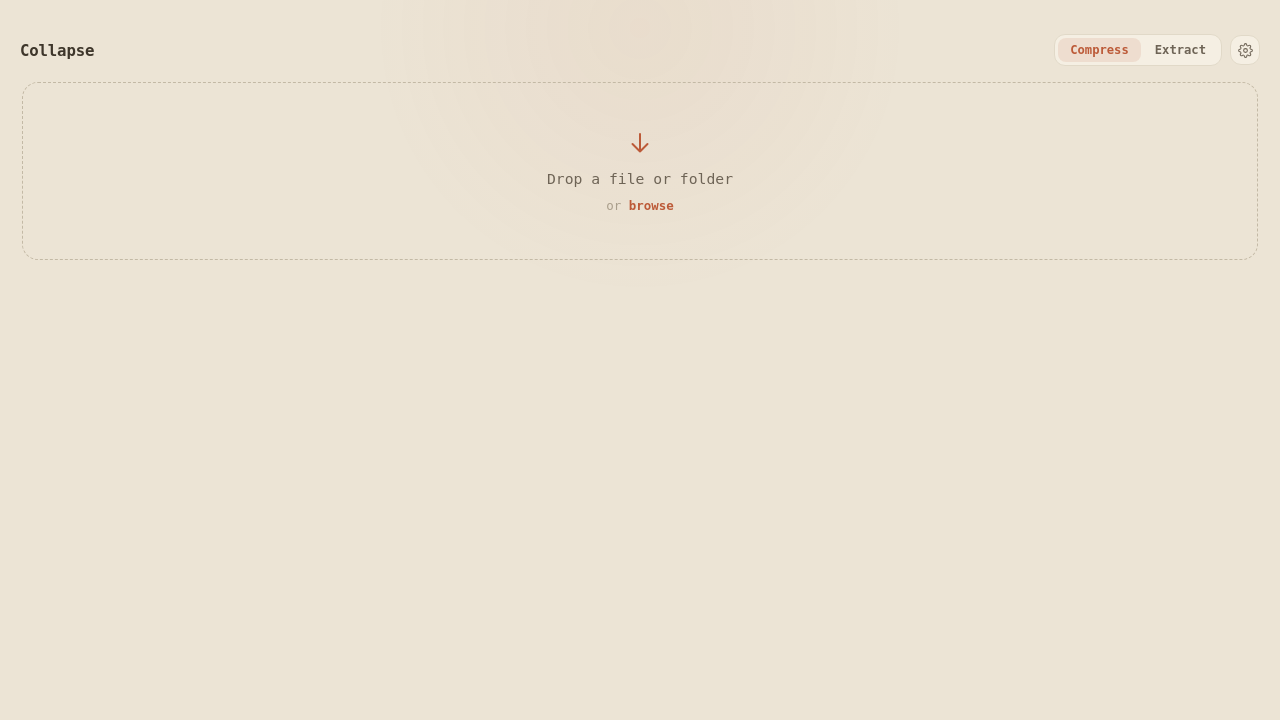
Scenario: App › compresses a picked file with the right command and args
Click the element with class "drop": (640, 171) [22,82,1258,260]
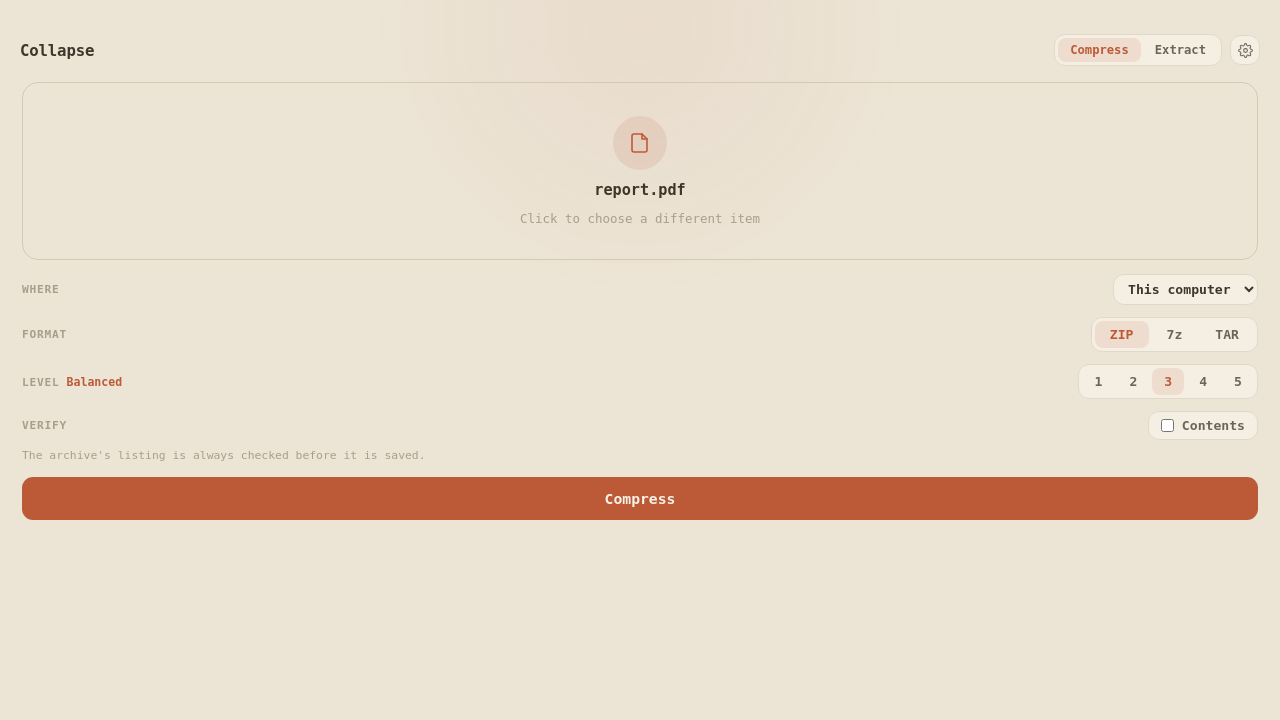
# Choose 7z, then compress.
Click the button "7z": (1174, 334) [1152,321,1197,348]
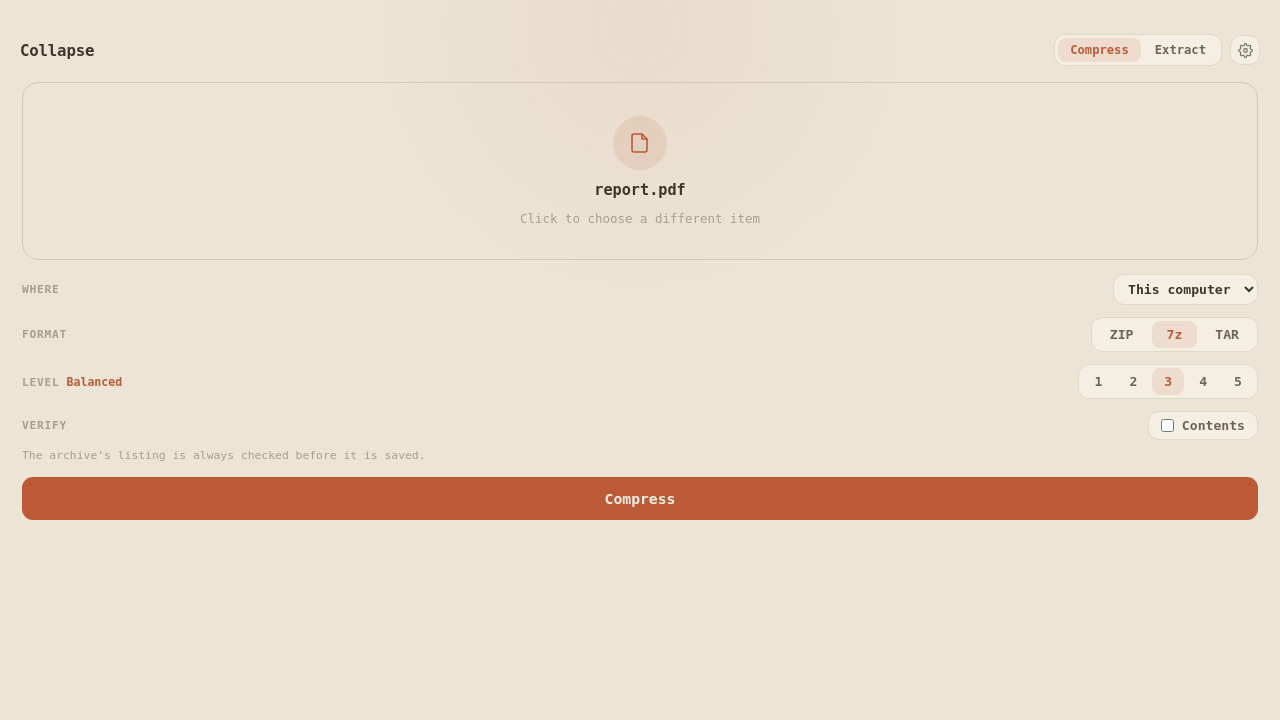
Click the button with class "cta": (640, 499) [22,478,1258,520]
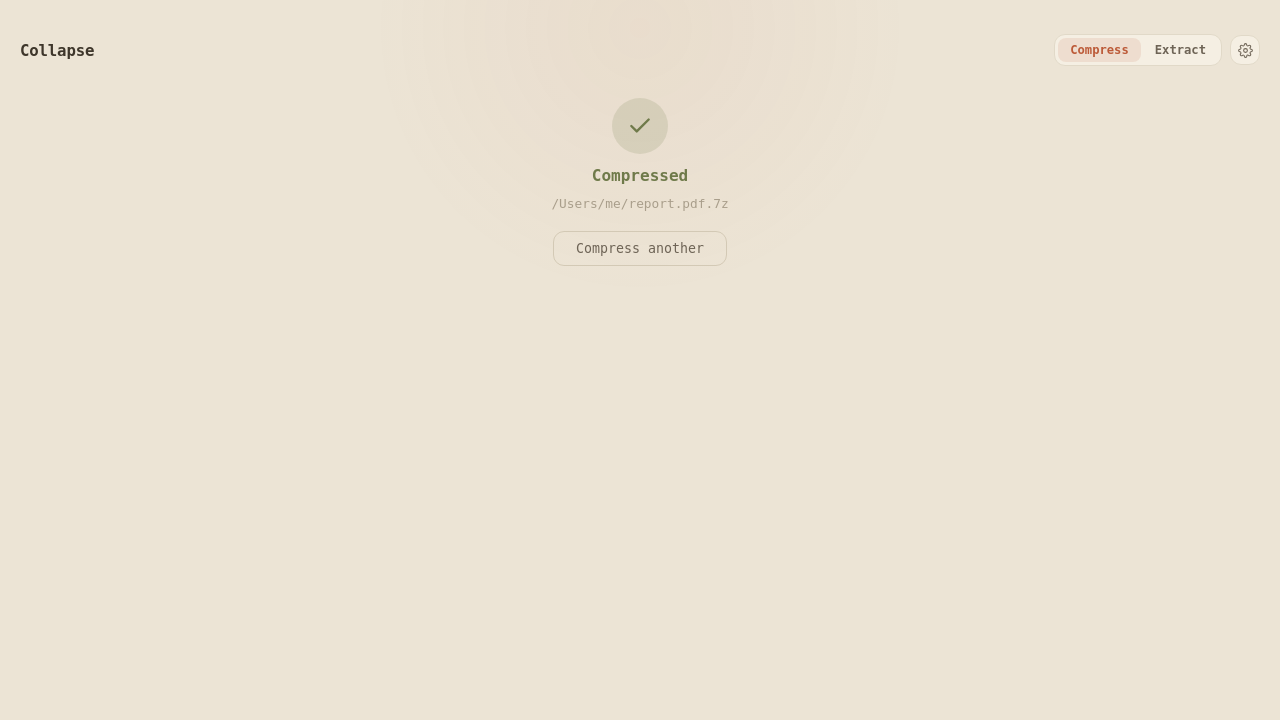
expect the text "Compressed" is shown: met, box [592,166,688,185]
expect the text "/Users/me/report.pdf.7z" is shown: met, box [551,195,729,213]
